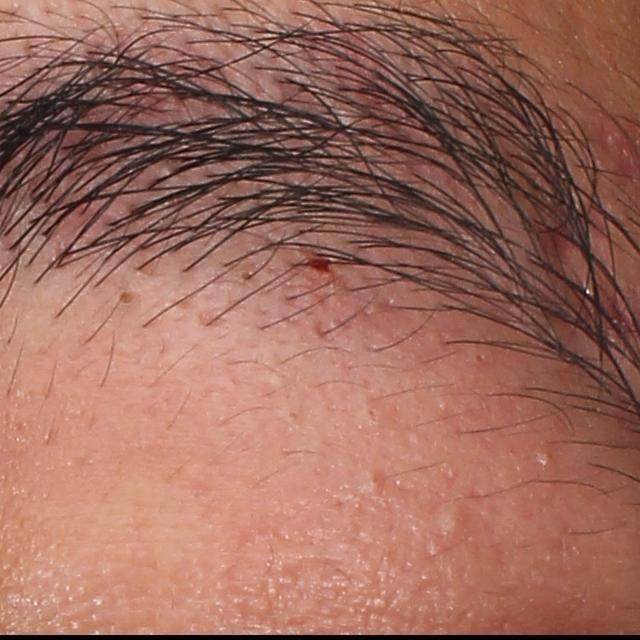comedo: (434, 501, 474, 542), (361, 464, 395, 501), (531, 444, 559, 476), (114, 285, 144, 309)
